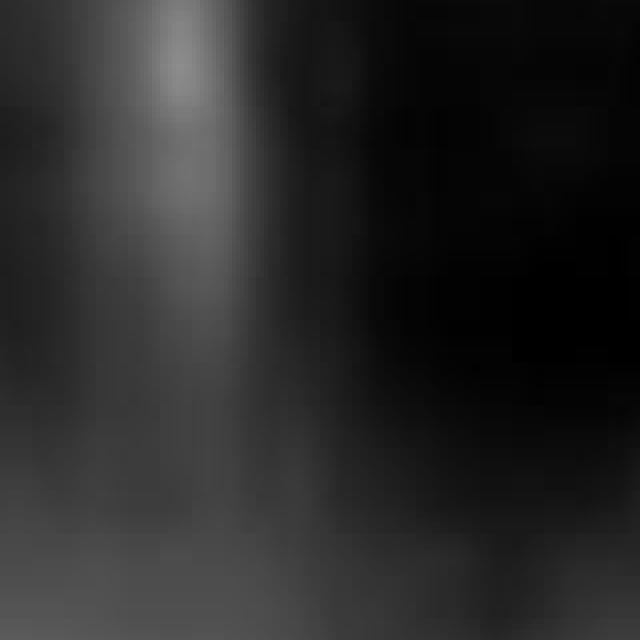person: (49, 1, 265, 438)
